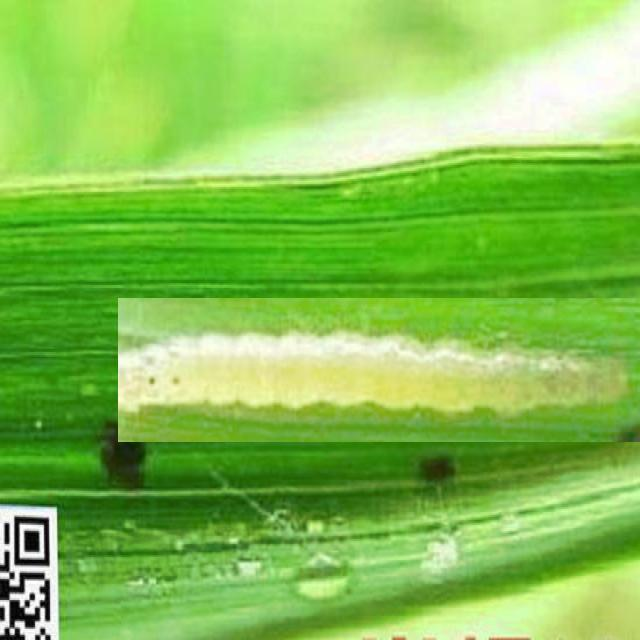leaf-folder: (118, 298, 640, 442)
